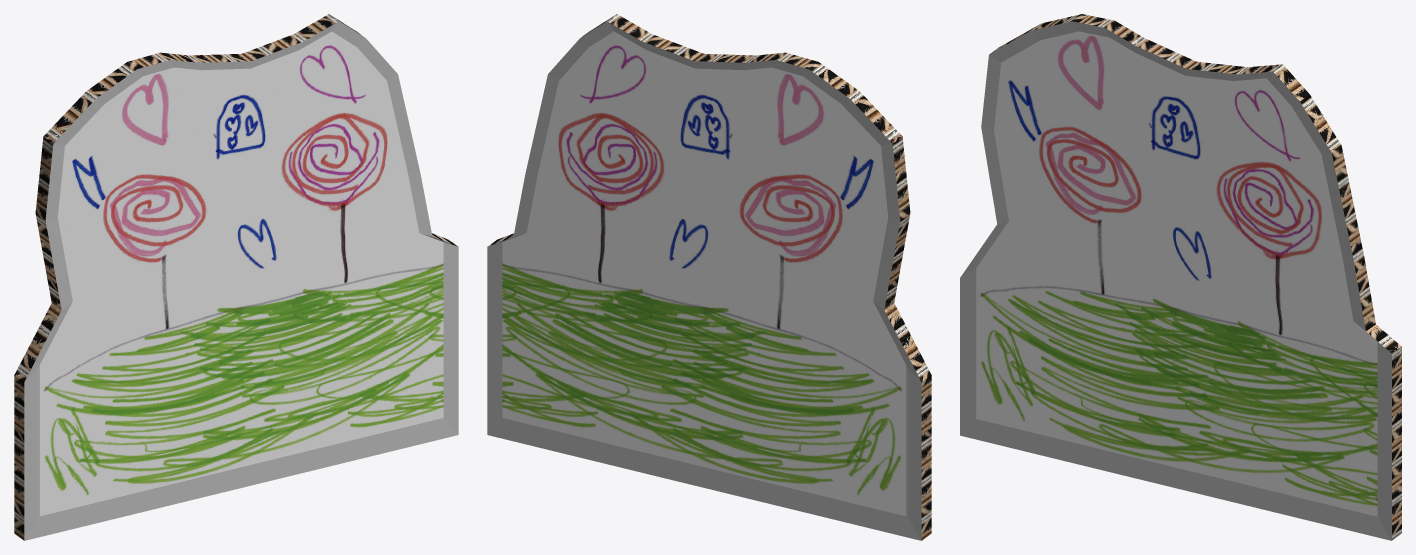
File: HiiriMaa2.fbx
The picture shows the model from 3 angles, left to right: view 1: azimuth 30°, elevation 25°; view 2: azimuth 150°, elevation 25°; view 3: azimuth 330°, elevation 25°; orthographic projection.
Parts seen in each view (by area): view 1: HiiriMaa2; view 2: HiiriMaa2; view 3: HiiriMaa2.
Boxes of the visible parts, x1=… form: HiiriMaa2: x1=14, y1=14, x2=458, y2=540; HiiriMaa2: x1=487, y1=14, x2=931, y2=540; HiiriMaa2: x1=960, y1=14, x2=1401, y2=540.
Size of the model in its own units: 214 by 210 by 8.52.
